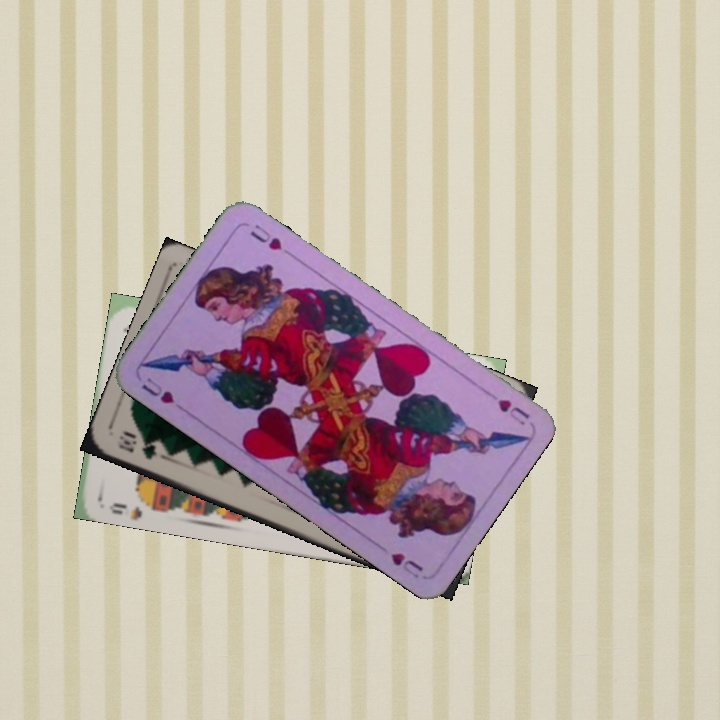G10: (115, 429, 159, 463)
HU: (137, 373, 177, 407), (493, 395, 533, 429)
S9: (105, 495, 160, 521)
